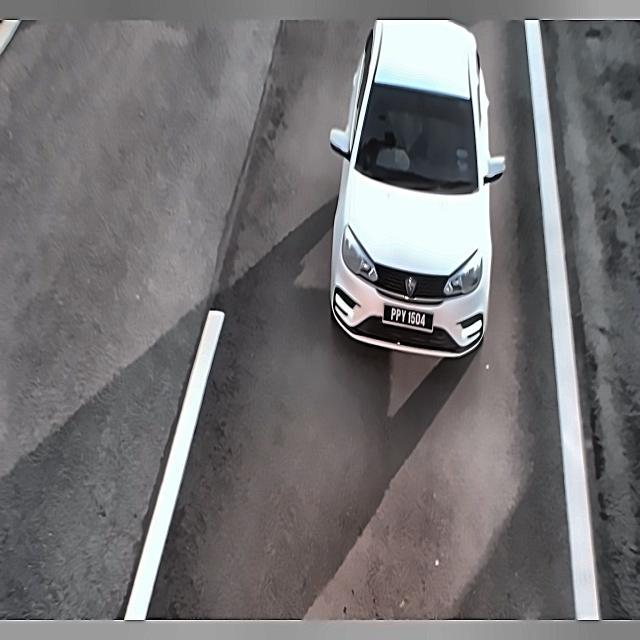car: (381, 290, 436, 344)
